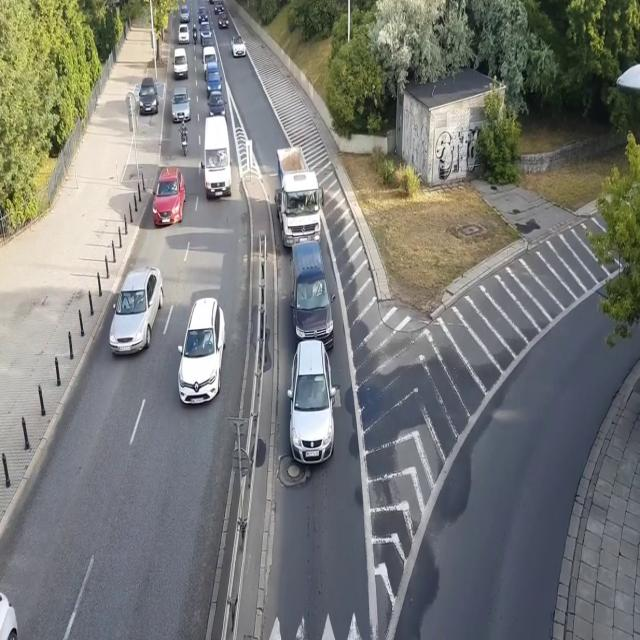car: (286, 340, 336, 464), (175, 298, 227, 406), (108, 266, 164, 358), (152, 165, 186, 227), (0, 583, 19, 640), (138, 76, 159, 116), (170, 85, 192, 123), (208, 90, 228, 120), (230, 34, 247, 60), (198, 18, 214, 41), (178, 24, 190, 46), (179, 2, 190, 24), (213, 0, 225, 16), (218, 14, 229, 31), (201, 35, 215, 48), (198, 6, 209, 22), (207, 0, 218, 4)
motorcycle: (178, 119, 188, 158), (192, 23, 198, 44)
truck: (274, 144, 325, 249)
van: (288, 240, 336, 358), (201, 112, 233, 199), (170, 46, 190, 81), (205, 62, 222, 96), (202, 47, 220, 79)
